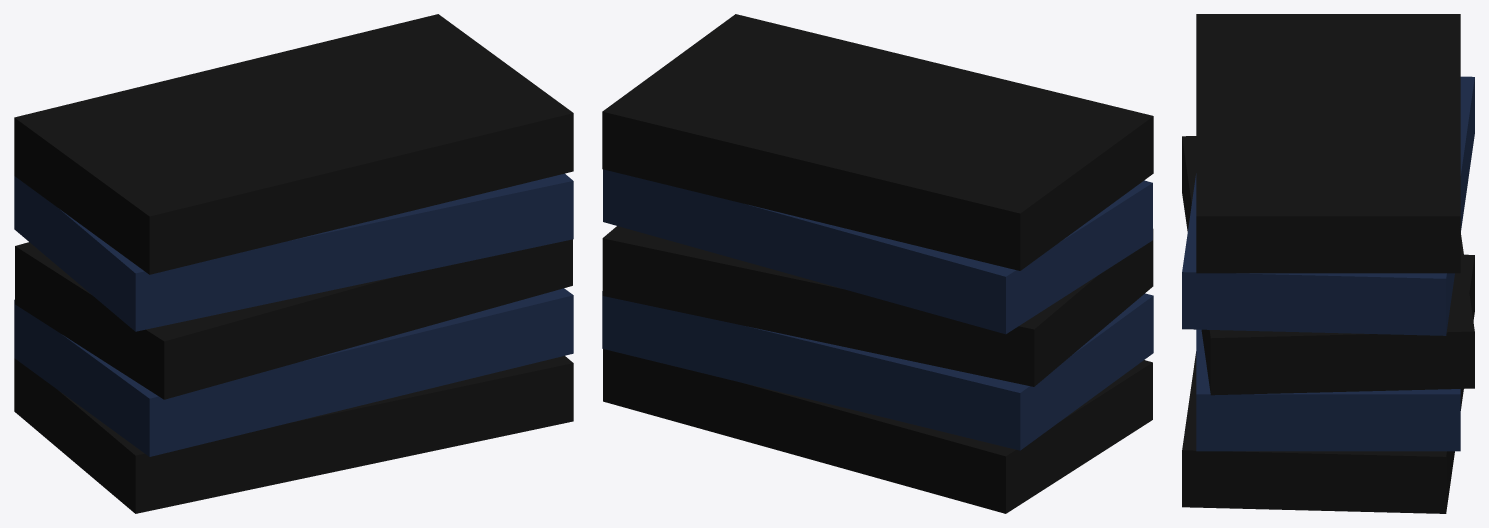
Rendered from vhs.glb.
3 views of the same model, side by side, from view 1: azimuth 30°, elevation 25°; view 2: azimuth 150°, elevation 25°; view 3: azimuth 270°, elevation 25° (orthographic). The views are drawn at different scales.
Visible parts, largest first — view 1: vhs; view 2: vhs; view 3: vhs.
Boxes of the visible parts, x1,y1,x2,y2 form: vhs: (14, 14, 573, 513); vhs: (602, 14, 1153, 513); vhs: (1182, 14, 1474, 513).
Size of the model in its own units: 0.196 by 0.129 by 0.1162.
